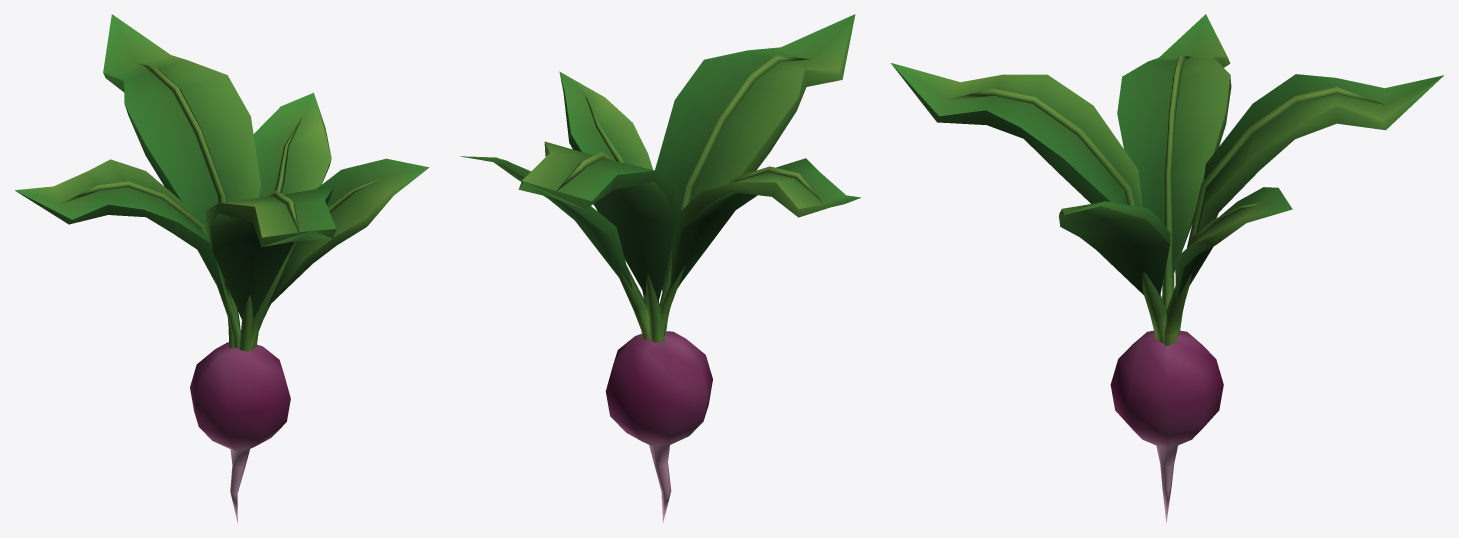
File: SM_Turnip_A.fbx
3 renders of one model, left to right at view 1: azimuth 30°, elevation 25°; view 2: azimuth 150°, elevation 25°; view 3: azimuth 270°, elevation 25°, orthographic. The views are drawn at different scales.
Visible parts, largest first — view 1: SM_Turnip_A; view 2: SM_Turnip_A; view 3: SM_Turnip_A.
Boxes of the visible parts, bbox=[...] form: SM_Turnip_A: bbox=[15, 14, 429, 523]; SM_Turnip_A: bbox=[460, 14, 860, 522]; SM_Turnip_A: bbox=[891, 14, 1443, 523].
Bounding box in the file's own units: 33.59 × 38.11 × 42.53.
